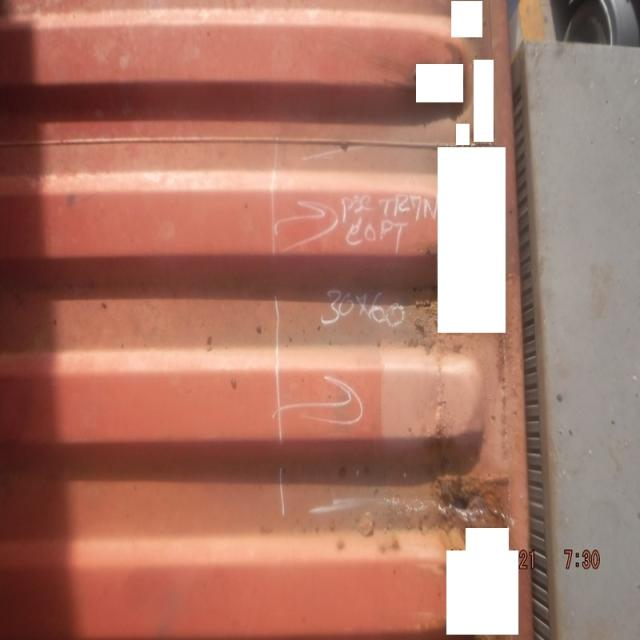hole: (438, 477, 504, 531)
